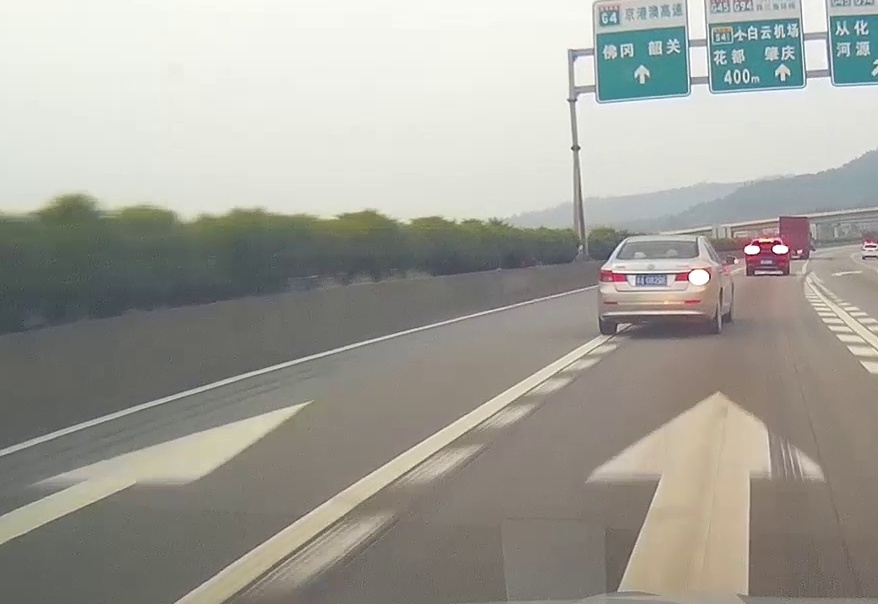L_light: (598, 268, 628, 282), (746, 247, 757, 252)
R_light: (675, 267, 710, 281), (774, 247, 785, 252)
T_light: (650, 241, 666, 245), (761, 240, 772, 242)
day-brake: (744, 238, 787, 276)
day-right: (598, 235, 712, 334)
